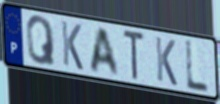A: (88, 26, 121, 78)
K: (60, 19, 85, 73), (154, 35, 179, 89)
L: (184, 39, 211, 95)
Q: (25, 14, 57, 68)
T: (122, 28, 146, 82)
